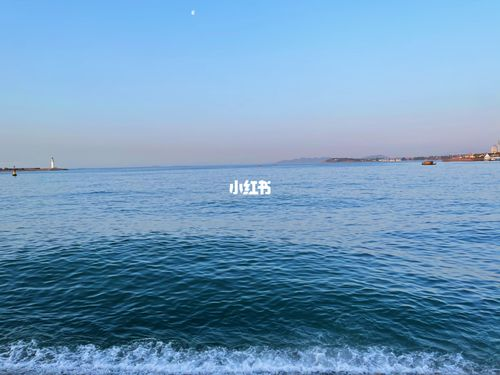sea_river: (0, 159, 498, 361)
sky_cloud: (0, 36, 498, 146)
